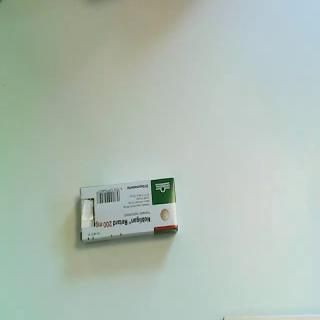nobligan_retard200mg: (79, 177, 180, 245)
